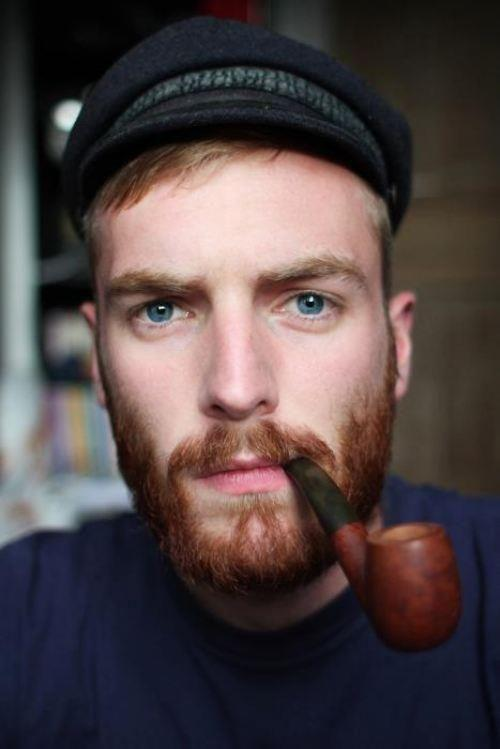trubka: (285, 458, 460, 650)
